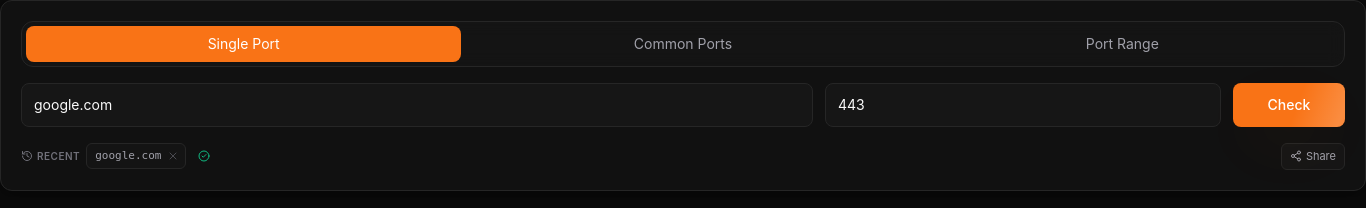
Test: PortCheckerClient › switches to common ports and renders the count
The image size is (1366, 208).
What coordinates should you click on to do the following:
click the button "Common ports"
I would click on:
 (683, 44)
Its box is [465, 26, 901, 62].
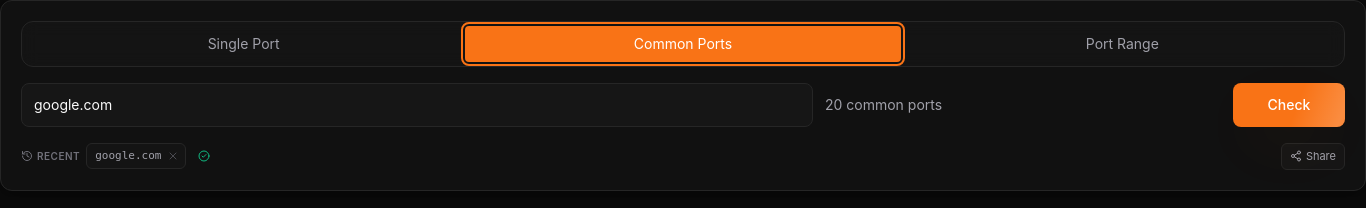
Expected: the text "20 common ports" is shown, [825, 96, 942, 113]
